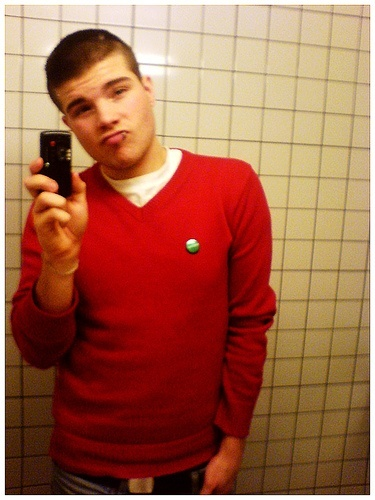head: (44, 28, 156, 168)
person: (17, 18, 277, 487)
